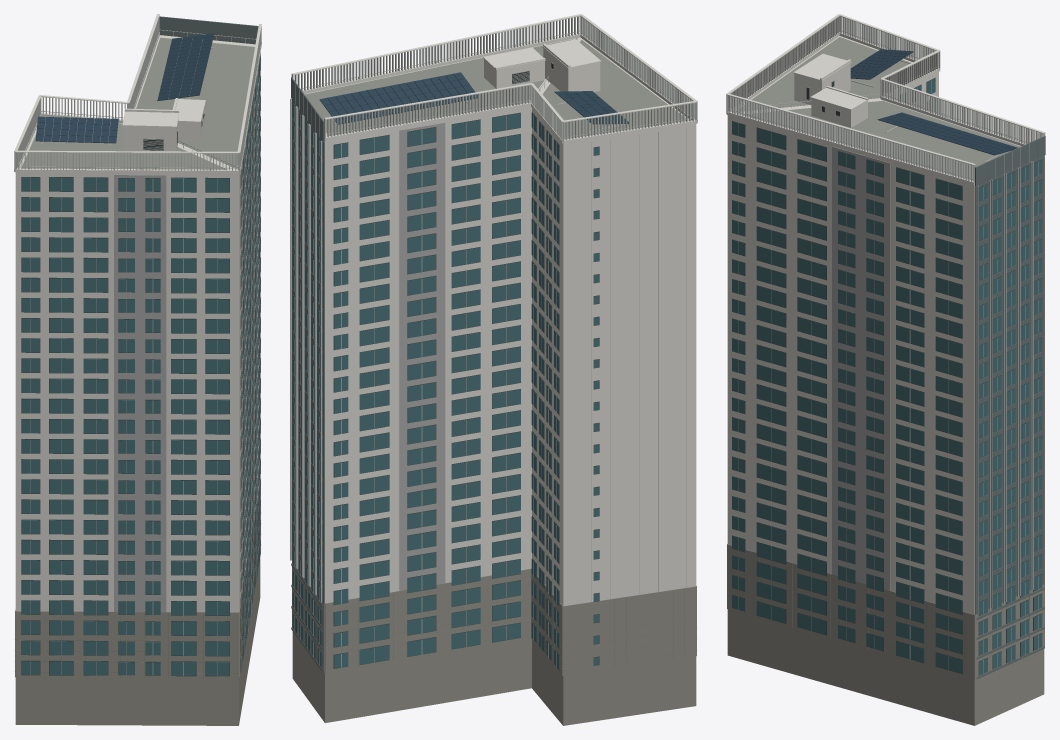
The model's file is bespoke-maple-xi-212-corrected.glb.
The picture shows the model from 3 angles, left to right: view 1: azimuth 30°, elevation 25°; view 2: azimuth 150°, elevation 25°; view 3: azimuth 270°, elevation 25°; orthographic projection. The views are drawn at different scales.
Parts seen in each view (by area): view 1: 212_e0_window_glass, 212_wing_0_observed_massing, 212_unverified_solid_ground_mass, 212_e0_blank_wall_joints, 212_e0_individually_sized_reveals, 212_wing_0_service_roof, 212_wing_0_roof_rail, 212_individual_roof_panel_array_0, 212_e3_paint_zone_graphite, 212_e0_stone_vertical_joints; view 2: 212_wing_0_observed_massing, 212_e0_window_glass, 212_unverified_solid_ground_mass, 212_wing_0_roof_rail, 212_e0_blank_wall_joints, 212_e0_individually_sized_reveals, 212_wing_0_service_roof, 212_e3_paint_zone_graphite, 212_individual_roof_panel_array_0, 212_e0_stone_vertical_joints; view 3: 212_e0_window_glass, 212_wing_0_observed_massing, 212_unverified_solid_ground_mass, 212_wing_0_roof_rail, 212_e0_blank_wall_joints, 212_e3_paint_zone_graphite, 212_e0_individually_sized_reveals, 212_wing_0_service_roof, 212_individual_roof_panel_array_0, 212_e0_stone_vertical_joints.
Boxes of the visible parts, x1,y1,x2,y2 form: 212_e0_window_glass: (21,55,260,676); 212_wing_0_observed_massing: (14,14,261,676); 212_unverified_solid_ground_mass: (15,494,260,725); 212_e0_blank_wall_joints: (114,93,253,612); 212_e0_individually_sized_reveals: (21,55,260,676); 212_wing_0_service_roof: (21,37,254,169); 212_wing_0_roof_rail: (14,16,261,675); 212_individual_roof_panel_array_0: (35,33,214,143); 212_e3_paint_zone_graphite: (159,16,260,477); 212_e0_stone_vertical_joints: (16,502,261,678); 212_wing_0_observed_massing: (291,14,697,675); 212_e0_window_glass: (292,103,599,669); 212_unverified_solid_ground_mass: (292,560,696,725); 212_wing_0_roof_rail: (290,16,697,667); 212_e0_blank_wall_joints: (399,62,686,601); 212_e0_individually_sized_reveals: (292,63,599,670); 212_wing_0_service_roof: (305,39,688,138); 212_e3_paint_zone_graphite: (291,77,324,672); 212_individual_roof_panel_array_0: (319,72,628,124); 212_e0_stone_vertical_joints: (292,578,696,670); 212_e0_window_glass: (732,78,1042,675); 212_wing_0_observed_massing: (726,14,1045,678); 212_unverified_solid_ground_mass: (727,544,1044,725); 212_wing_0_roof_rail: (726,16,1045,673); 212_e0_blank_wall_joints: (806,80,890,590); 212_e3_paint_zone_graphite: (975,136,1045,679); 212_e0_individually_sized_reveals: (732,77,1042,675); 212_wing_0_service_roof: (734,37,1020,180); 212_individual_roof_panel_array_0: (850,49,1017,155); 212_e0_stone_vertical_joints: (727,552,1044,676).
Size of the model in its own units: 49.48 by 87.27 by 44.21.
